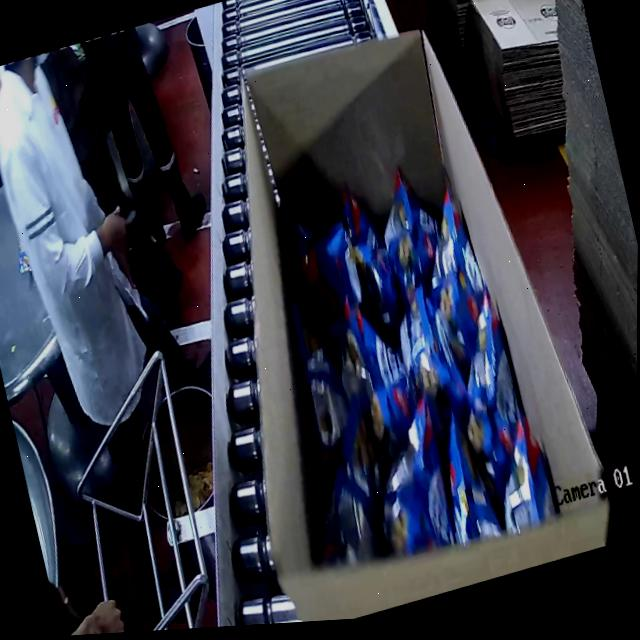PAPRIKA: (256, 158, 549, 595)
